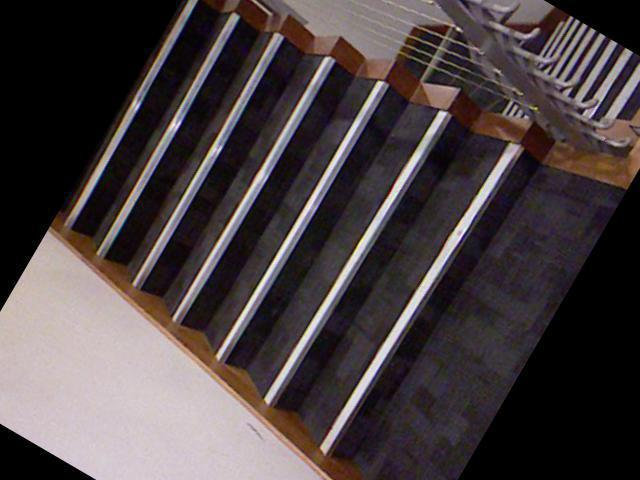Escaleras: (14, 0, 563, 480), (483, 4, 640, 199)
